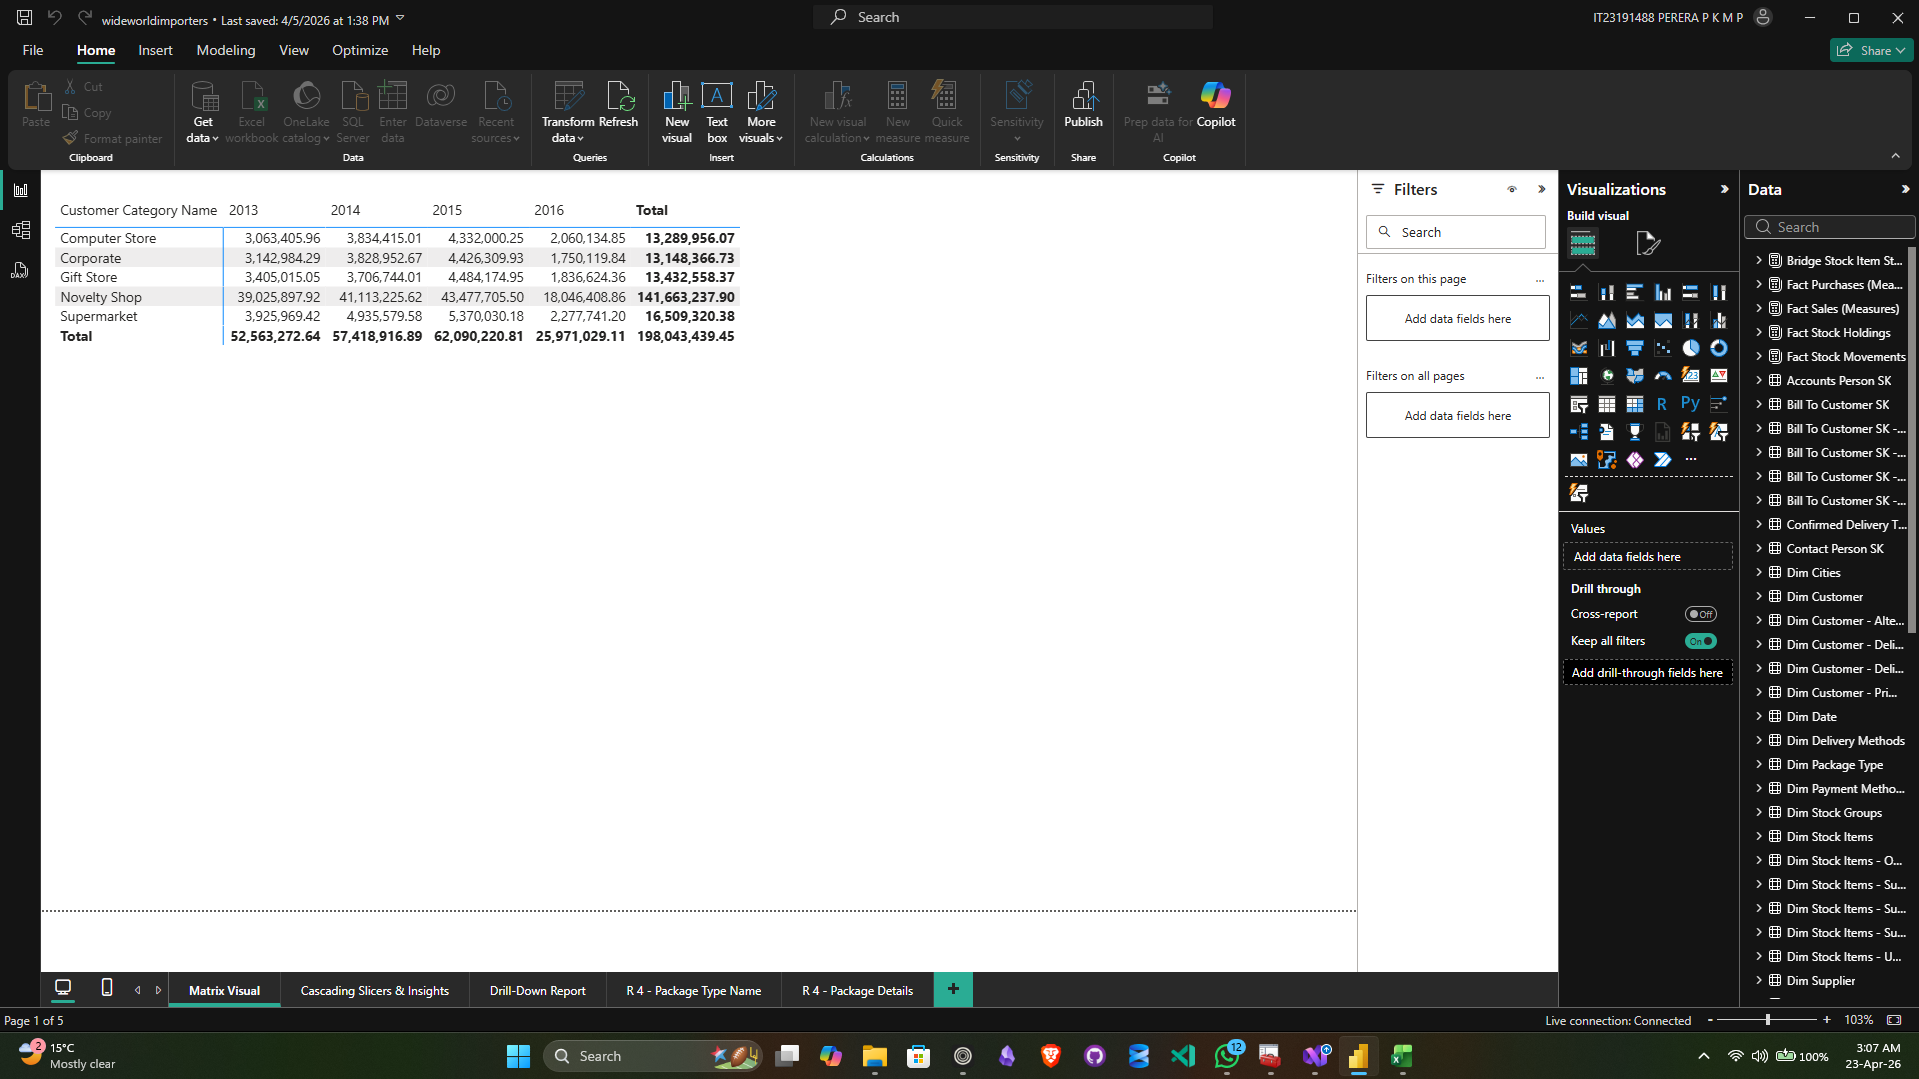

Layout of this report page (visuals, bound fields, positions):
{"tool":"powerbi","page":{"name":"Matrix Visual","canvas":[1280,720],"ordinal":0},"visuals":[{"type":"pivotTable","fields":{"Values":["Fact Sales (Measures).Transaction Amount - Fact Sales"],"Columns":["Transaction Date SK.Year"],"Rows":["Bill To Customer SK.Customer Category Name"]},"box":[9,23,685,250],"z":0}]}

Visuals, with their boxes on the page's 1280x720 design canvas (x1, y1, x2, y2). These are canvas units, not pixel positions in the 1919x1079 screenshot, which may show the page scaled, cropped or inside an application window:
pivotTable - Fact Sales (Measures).Transaction Amount - Fact Sales x Transaction Date SK.Year: 9,23,694,273
